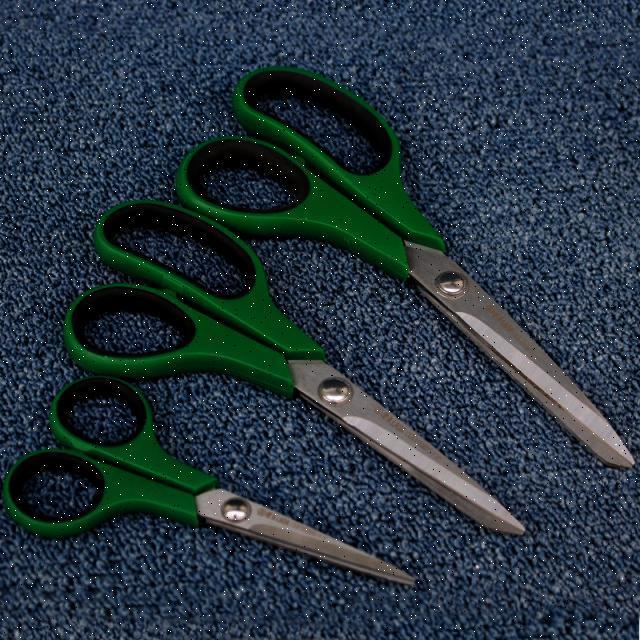scissors: (134, 31, 640, 484), (46, 174, 554, 565), (0, 368, 448, 618)
